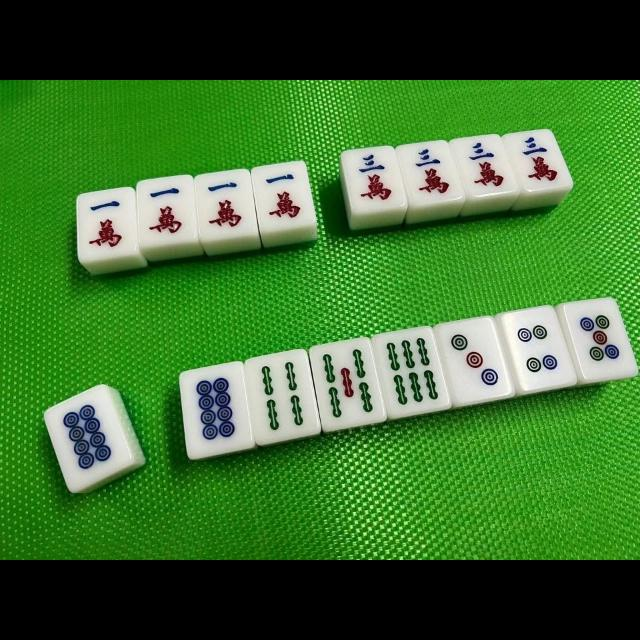b4: (247, 354, 317, 442)
b5: (314, 341, 384, 425)
b6: (376, 331, 446, 413)
c1: (252, 162, 314, 232), (194, 171, 254, 239), (78, 188, 136, 258), (137, 178, 195, 245)
c3: (399, 142, 461, 206), (346, 148, 404, 210), (455, 137, 513, 197), (508, 132, 570, 188)
d3: (438, 317, 509, 405)
d4: (502, 310, 572, 392)
d5: (568, 301, 632, 373)
d8: (46, 391, 130, 479), (182, 368, 250, 457)
